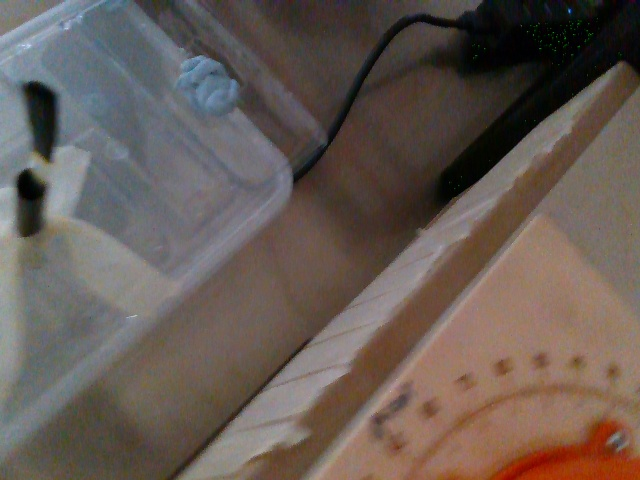test_strip: (13, 77, 57, 182)
